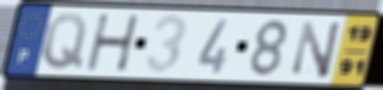3: (143, 12, 193, 77)
4: (195, 18, 229, 75)
8: (246, 17, 292, 79)
H: (85, 13, 143, 73)
N: (290, 19, 345, 80)
Q: (39, 11, 90, 72)
